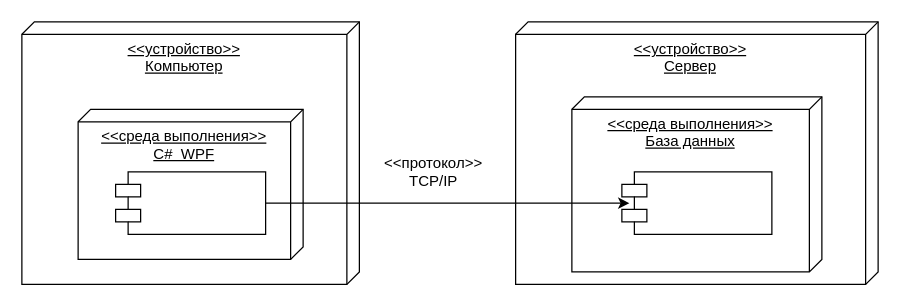
Some shapes in this 900 by 306 pixel diagram are drawn without their labels. The centre of each missing label's shape, as x and y in pixels:
"<<компонент>> MSSQL" belongs at point 696,202.
"<<компонент>> XAML" belongs at point 190,202.
